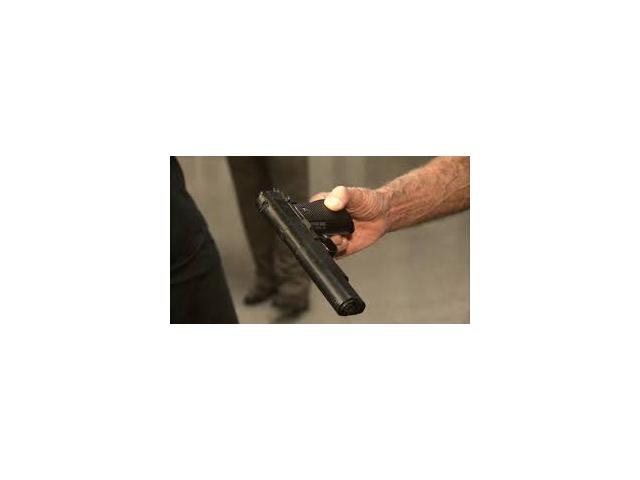pistol: (252, 188, 370, 318)
